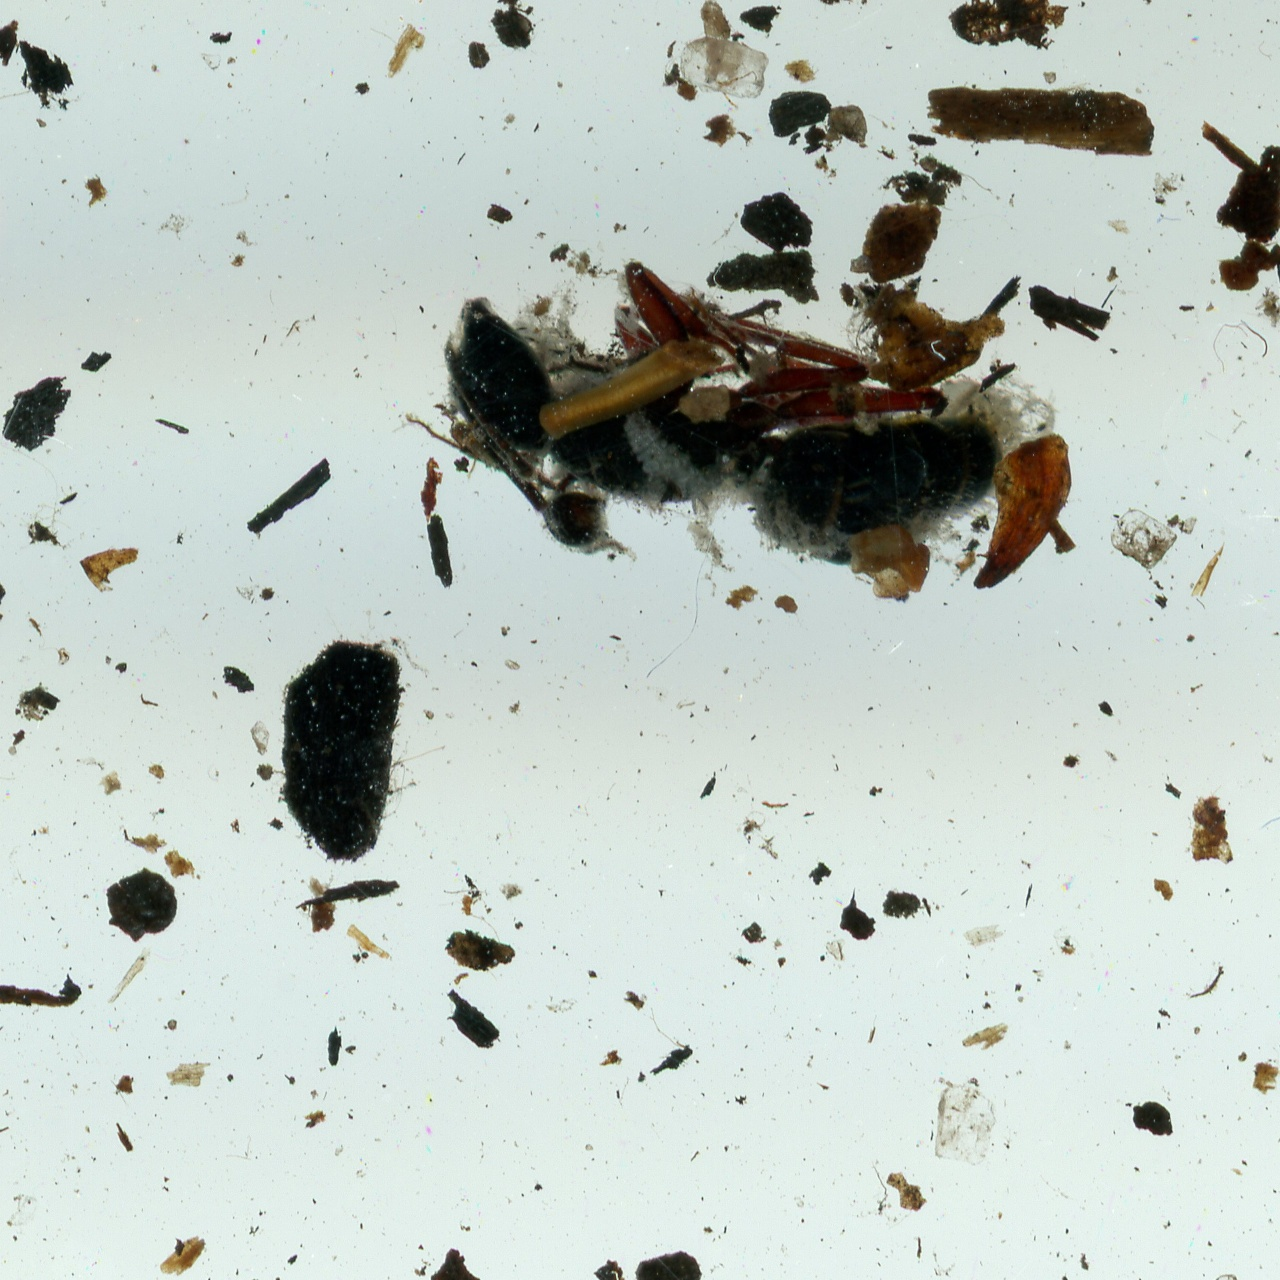arthropod: (391, 203, 1042, 654)
